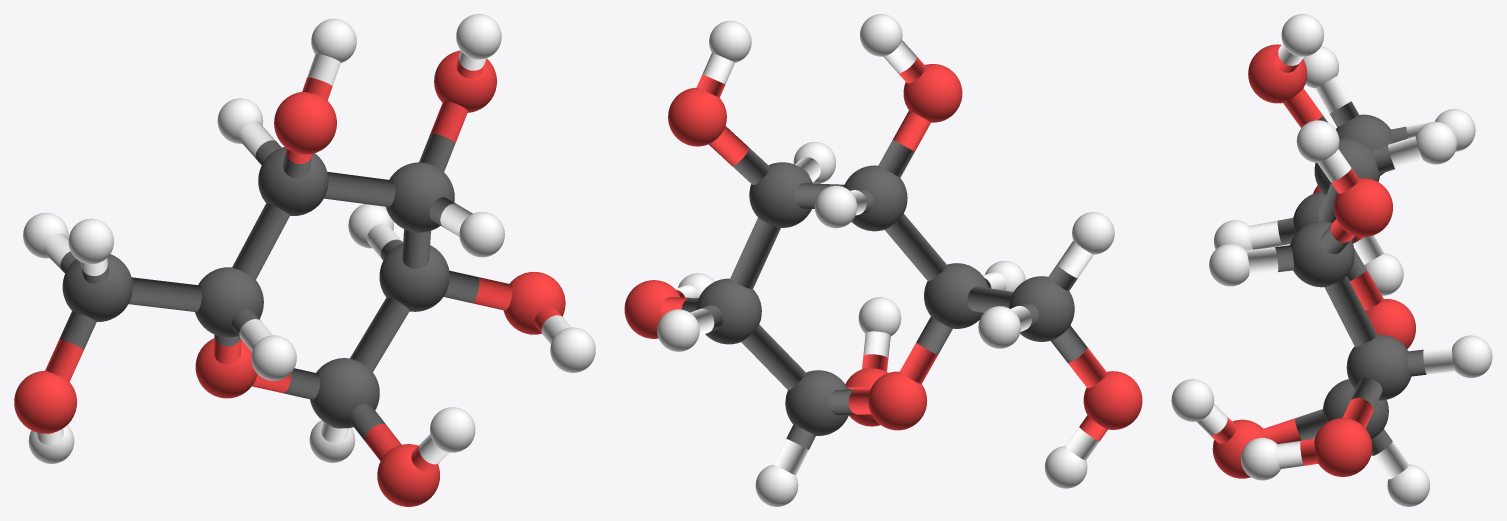
File: alpha-d-glucose.glb
3 renders of one model, left to right at view 1: azimuth 30°, elevation 25°; view 2: azimuth 150°, elevation 25°; view 3: azimuth 270°, elevation 25°, orthographic. The views are drawn at different scales.
Visible parts, largest first — view 1: alphaglucose; view 2: alphaglucose; view 3: alphaglucose.
Part boxes in pixels (x1,y1,x2,y2): alphaglucose: (14,14,595,506); alphaglucose: (624,14,1142,506); alphaglucose: (1171,14,1492,506).
Size of the model in its own units: 6.97 by 6.06 by 3.8.
